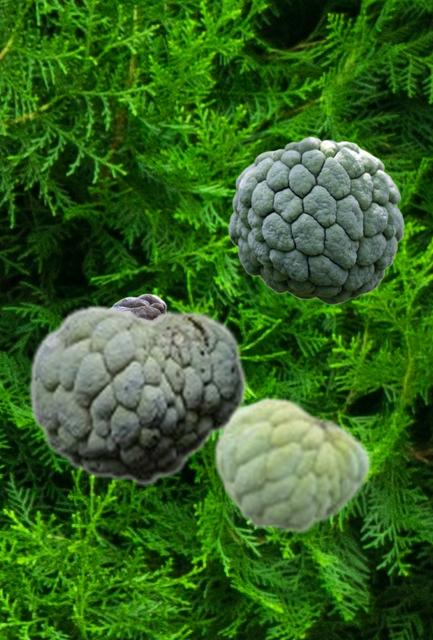atis: (28, 304, 246, 485), (228, 136, 403, 304), (212, 395, 370, 534), (112, 293, 166, 317)
